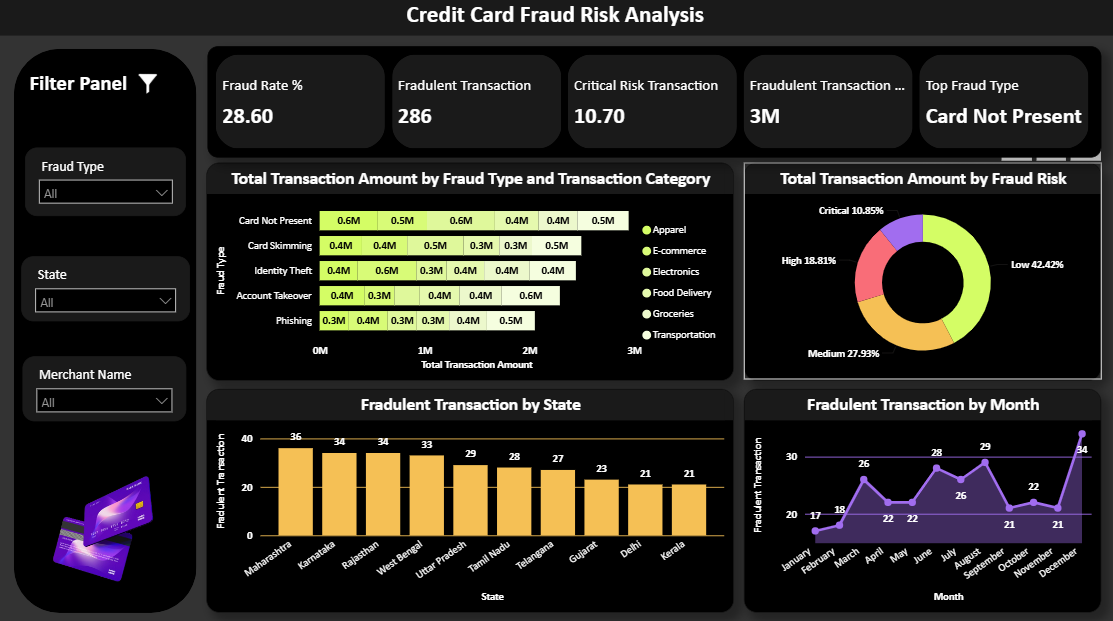

The page's visual inventory and layout, read from the dashboard file:
{"tool":"powerbi","page":{"name":"Page 1","canvas":[1280,720],"ordinal":0},"visuals":[{"type":"textbox","box":[0,0,1280.6,46.3],"z":0},{"type":"shape","box":[20.9,61.2,209,644.8],"z":1000},{"type":"textbox","box":[34.3,80.6,141.8,46.3],"z":2000},{"type":"image","box":[144.8,80.6,61.2,43.3],"z":3000},{"type":"barChart","fields":{"Category":["Credit Card Fraud Risk Analysis.Fraud Type"],"Series":["Credit Card Fraud Risk Analysis.Transaction Category"],"Y":["Credit Card Fraud Risk Analysis.Total Transaction Amount"]},"box":[241.8,191,603,249.3],"z":4000},{"type":"donutChart","fields":{"Category":["Credit Card Fraud Risk Analysis.Fraud Risk"],"Y":["Credit Card Fraud Risk Analysis.Total Transaction Amount"]},"box":[855.2,191,409,249.3],"z":5000},{"type":"columnChart","fields":{"Category":["Credit Card Fraud Risk Analysis.State"],"Y":["Credit Card Fraud Risk Analysis.Fradulent Transaction"]},"box":[241.4,450,602.9,255.7],"z":6000},{"type":"lineChart","fields":{"Category":["Credit Card Fraud Risk Analysis.Transaction Date.Variation.Date Hierarchy.Month"],"Y":["Credit Card Fraud Risk Analysis.Fradulent Transaction"]},"box":[855.7,450,408.6,255.7],"z":7000},{"type":"slicer","fields":{"Values":["Credit Card Fraud Risk Analysis.Fraud Type"]},"box":[34.3,174.3,184.3,78.6],"z":8000},{"type":"slicer","fields":{"Values":["Credit Card Fraud Risk Analysis.State"]},"box":[30,298.6,192.9,74.3],"z":9000},{"type":"slicer","fields":{"Values":["Credit Card Fraud Risk Analysis.Merchant Name"]},"box":[31.4,412.9,187.1,74.3],"z":10000},{"type":"image","box":[0,530,191.4,162.9],"z":11000},{"type":"cardVisual","fields":{"Data":["Credit Card Fraud Risk Analysis.Fraud Rate %","Credit Card Fraud Risk Analysis.Fradulent Transaction","Credit Card Fraud Risk Analysis.Critical Risk Transaction","Credit Card Fraud Risk Analysis.Fraudulent Transaction Amount","Credit Card Fraud Risk Analysis.Top Fraud Type"]},"box":[242.9,58.6,1021.4,127.1],"z":12000}]}

Visuals, with their boxes in screenshot pixels (x1, y1, x2, y2), scaled from the page's 1280x720 canvas onto the 1113x621 screenshot:
textbox: 0,0,1112,40
shape: 18,53,200,609
textbox: 30,70,153,109
image: 126,70,179,107
barChart - Credit Card Fraud Risk Analysis.Fraud Type x Credit Card Fraud Risk Analysis.Transaction Category: 210,165,735,380
donutChart - Credit Card Fraud Risk Analysis.Fraud Risk x Credit Card Fraud Risk Analysis.Total Transaction Amount: 744,165,1099,380
columnChart - Credit Card Fraud Risk Analysis.State x Credit Card Fraud Risk Analysis.Fradulent Transaction: 210,388,734,609
lineChart - Credit Card Fraud Risk Analysis.Transaction Date.Variation.Date Hierarchy.Month x Credit Card Fraud Risk Analysis.Fradulent Transaction: 744,388,1099,609
slicer - Credit Card Fraud Risk Analysis.Fraud Type: 30,150,190,218
slicer - Credit Card Fraud Risk Analysis.State: 26,258,194,322
slicer - Credit Card Fraud Risk Analysis.Merchant Name: 27,356,190,420
image: 0,457,166,598
cardVisual - Credit Card Fraud Risk Analysis.Fraud Rate % x Credit Card Fraud Risk Analysis.Fradulent Transaction: 211,51,1099,160
